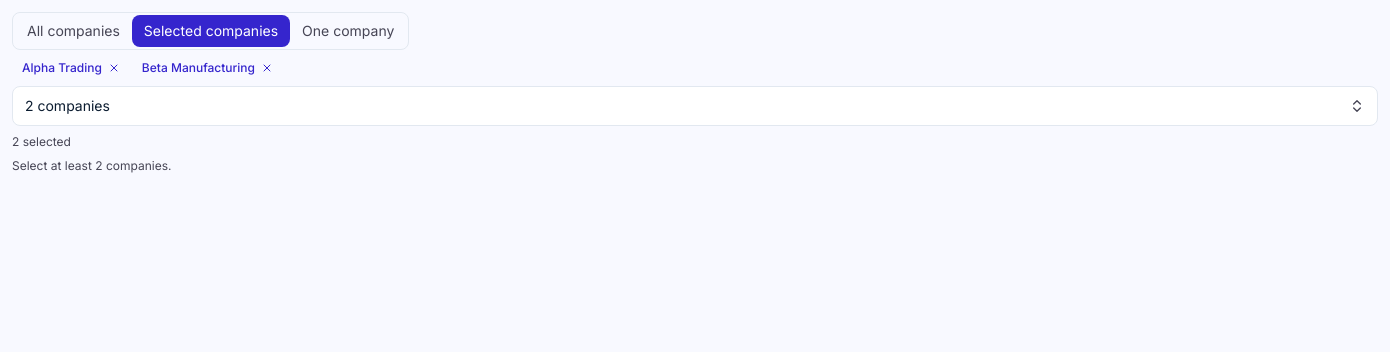
Test: CompanyTargetSelector › clear all empties the selection
Click the button with aria-label "select companies": (67, 106) [12,86,1378,126]
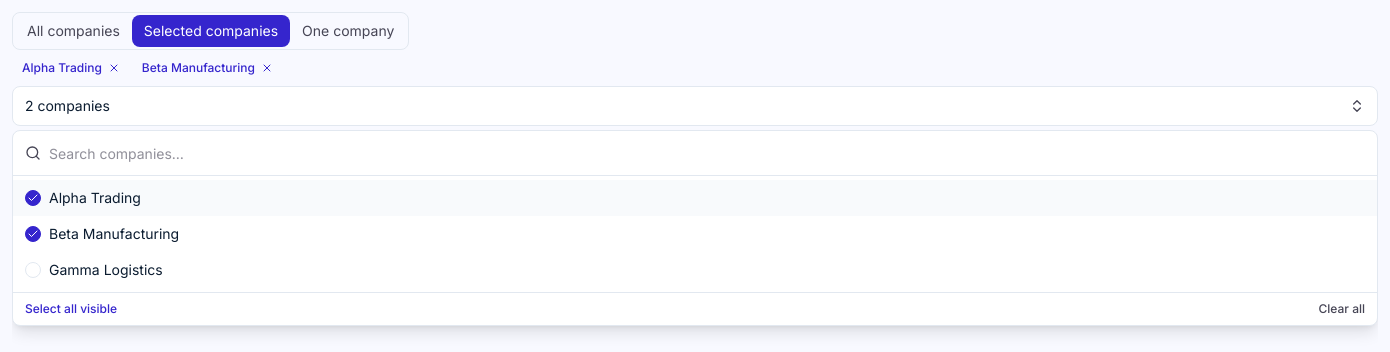
Click the button "Clear all": (1342, 309) [1318,301,1365,317]
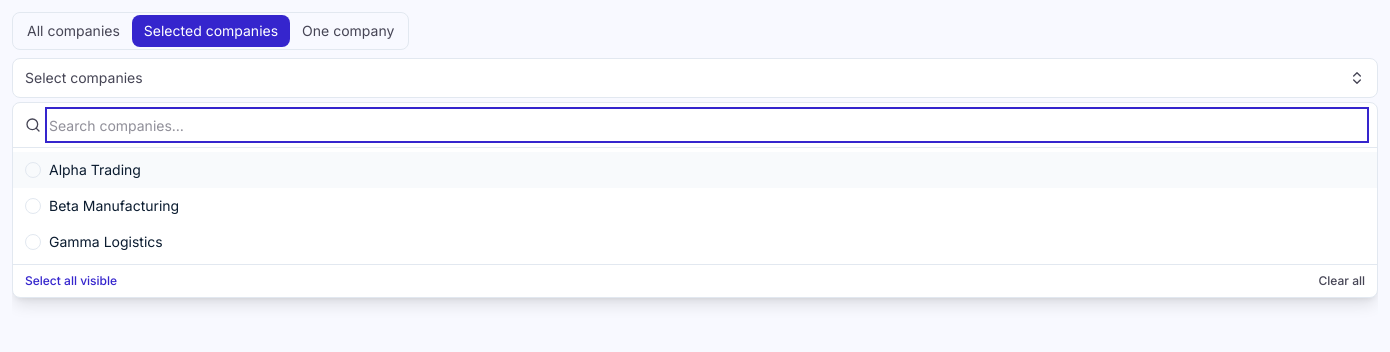
Check: the text "0 selected" is shown, box [12,106,71,121]
